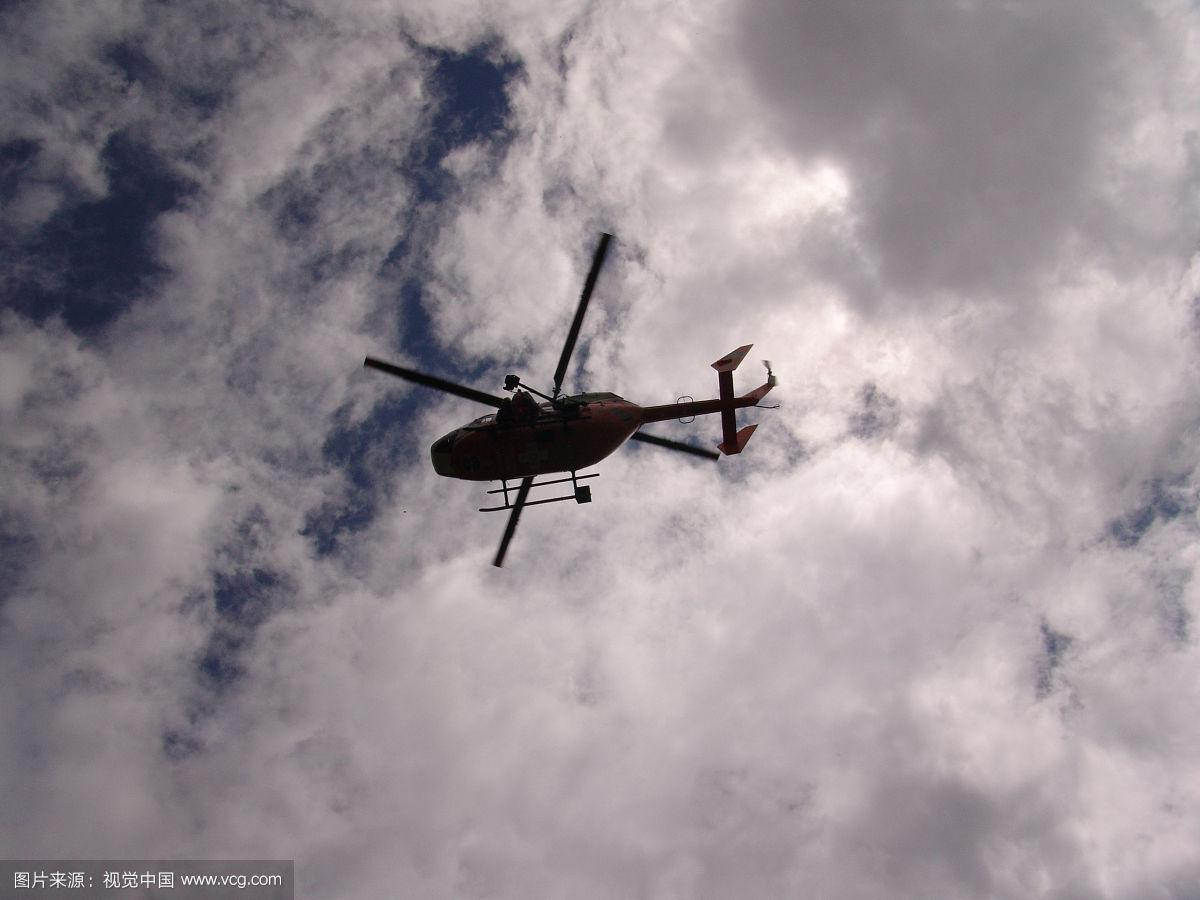airplane: (354, 220, 787, 573)
